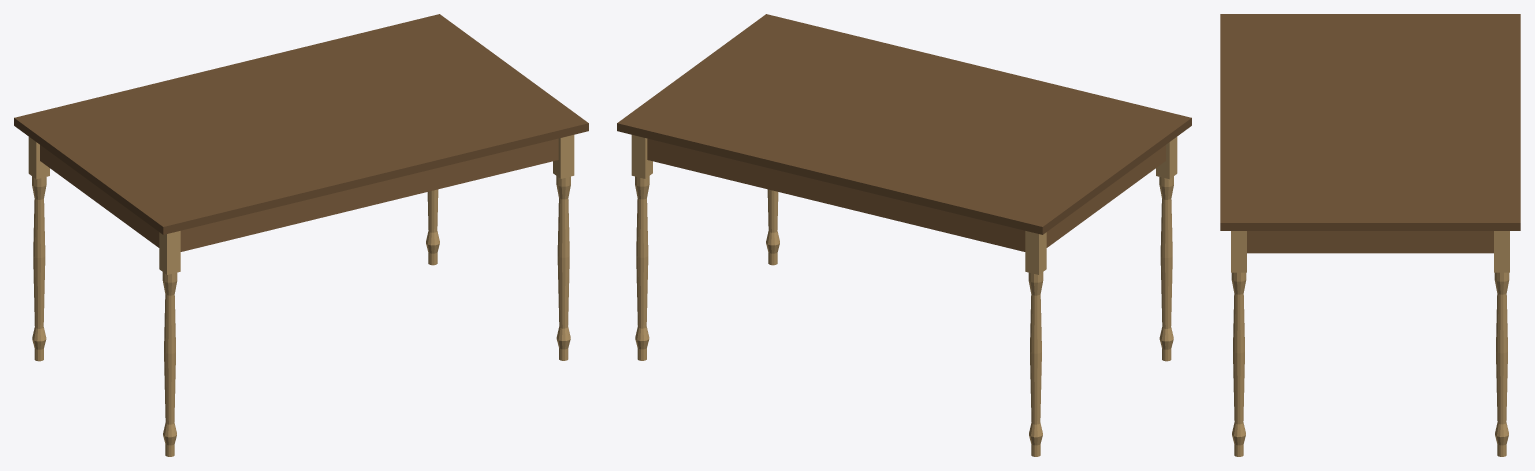
Rendered from FET-DTB-4-seat.glb.
3 views of the same model, side by side, from view 1: azimuth 30°, elevation 25°; view 2: azimuth 150°, elevation 25°; view 3: azimuth 270°, elevation 25° (orthographic).
Parts seen in each view (by area): view 1: top:pbr, apron-f:pbr, leg-fl:pbr, leg-fr:pbr, leg-bl:pbr, apron-l:pbr, leg-br:pbr; view 2: top:pbr, apron-b:pbr, leg-bl:pbr, leg-br:pbr, leg-fl:pbr, apron-l:pbr, leg-fr:pbr; view 3: top:pbr, apron-r:pbr, leg-fr:pbr, leg-br:pbr.
Part boxes in pixels (x1,y1,x2,y2): top:pbr: (14,14,588,234); apron-f:pbr: (180,138,558,251); leg-fl:pbr: (159,231,180,456); leg-fr:pbr: (553,135,574,360); leg-bl:pbr: (28,137,49,361); apron-l:pbr: (40,145,159,247); leg-br:pbr: (426,189,439,265); top:pbr: (617,14,1191,234); apron-b:pbr: (647,138,1025,251); leg-bl:pbr: (1025,231,1046,456); leg-br:pbr: (631,135,652,360); leg-fl:pbr: (1156,137,1177,361); apron-l:pbr: (1046,145,1165,247); leg-fr:pbr: (766,189,779,265); top:pbr: (1220,14,1520,230); apron-r:pbr: (1247,231,1493,253); leg-fr:pbr: (1231,231,1246,456); leg-br:pbr: (1494,231,1509,456).
Bounding box in the file's own units: 1.4 × 0.75 × 0.85.
